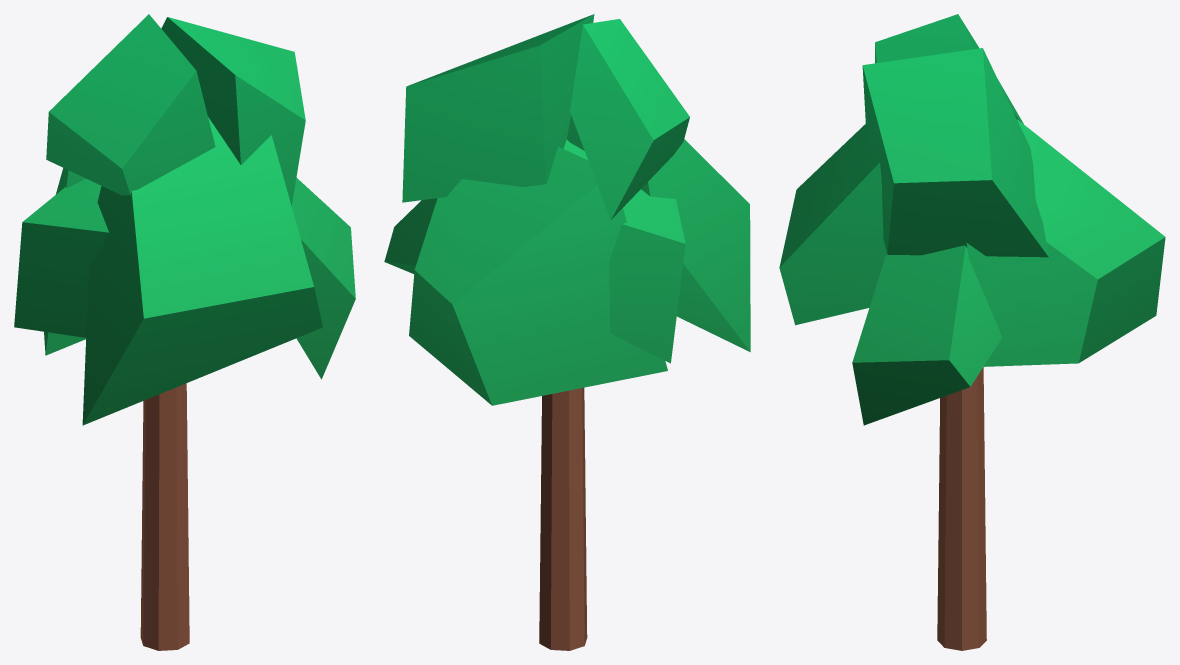
File: Tree_41_gradient_green.fbx
The picture shows the model from 3 angles, left to right: view 1: azimuth 30°, elevation 25°; view 2: azimuth 150°, elevation 25°; view 3: azimuth 270°, elevation 25°; orthographic projection. The views are drawn at different scales.
Visible parts, largest first — view 1: Tree_41_gradient_green; view 2: Tree_41_gradient_green; view 3: Tree_41_gradient_green.
Boxes of the visible parts, x1,y1,x2,y2 form: Tree_41_gradient_green: [14, 14, 355, 650]; Tree_41_gradient_green: [384, 14, 750, 650]; Tree_41_gradient_green: [779, 14, 1165, 650].
Bounding box in the file's own units: 120 × 229 × 130.
